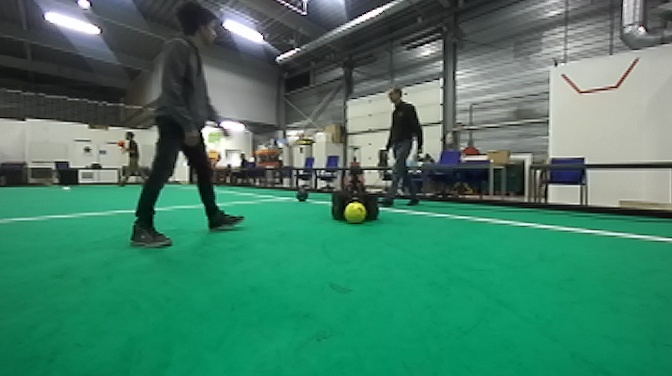ball: (342, 199, 370, 224), (296, 187, 310, 202)
human: (123, 3, 246, 251), (376, 81, 423, 209)
robot: (330, 139, 381, 222)
